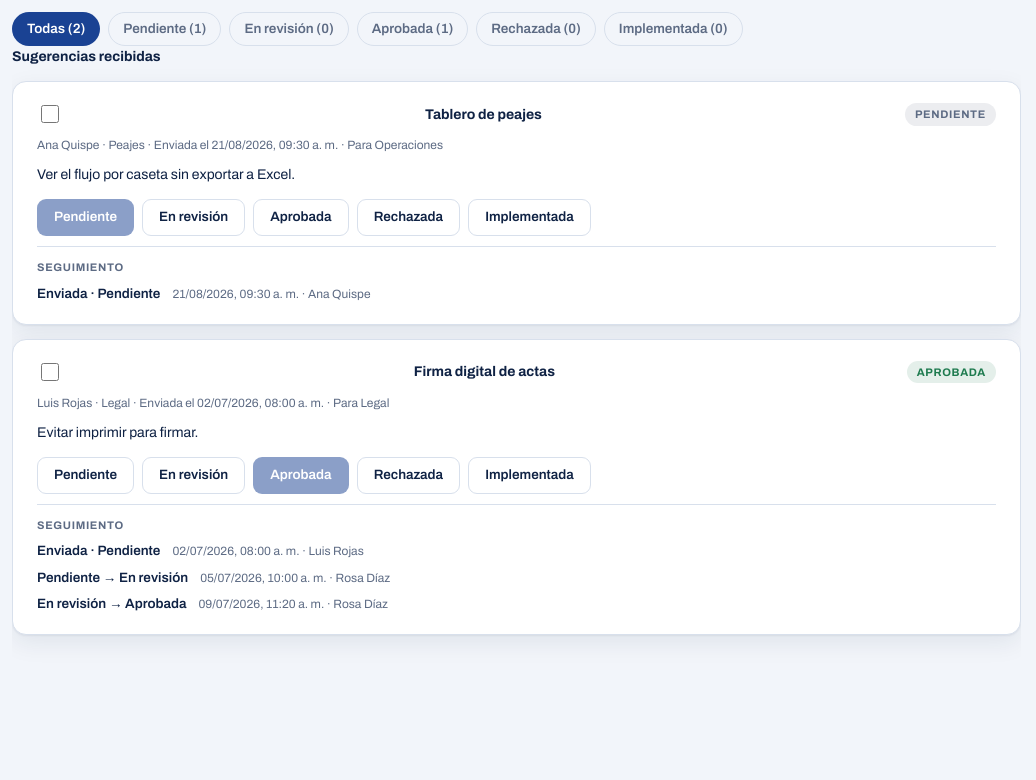
Test: los botones del embudo › apaga toda la lista mientras hay una escritura en vuelo
Click the button with aria-label "Marcar «Tablero de peajes» como Aprobada" at (301, 218), box [253,199,349,236]
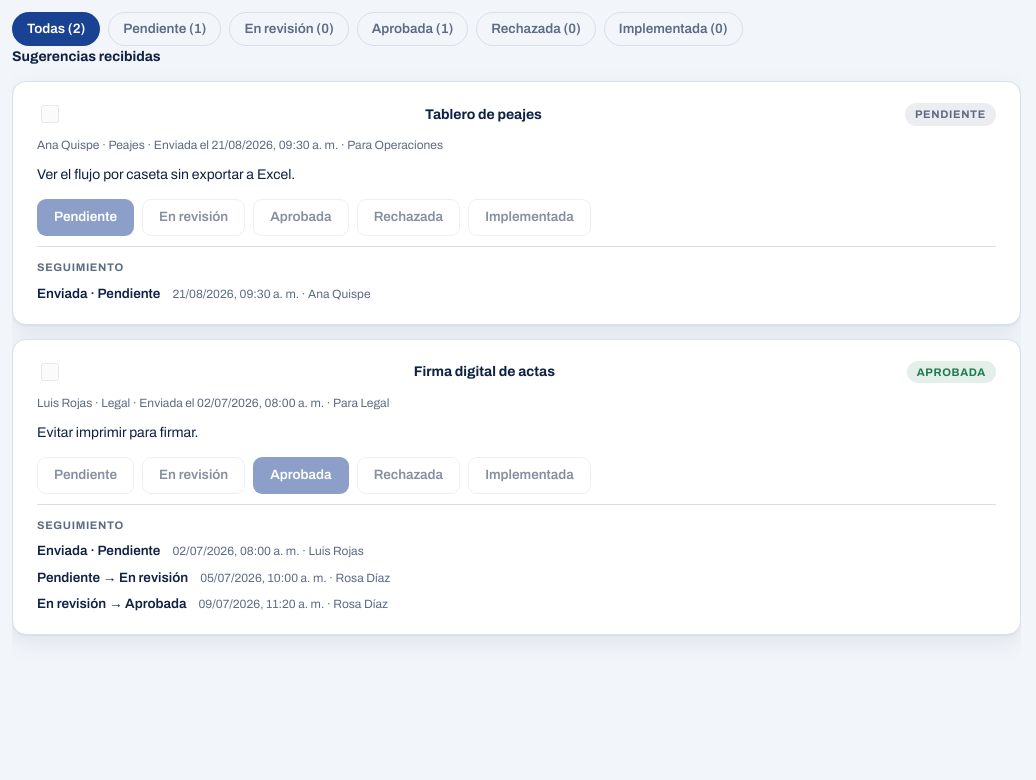
Now the button with aria-label "Marcar «Tablero de peajes» como Aprobada" is disabled, box [253,199,349,236]
